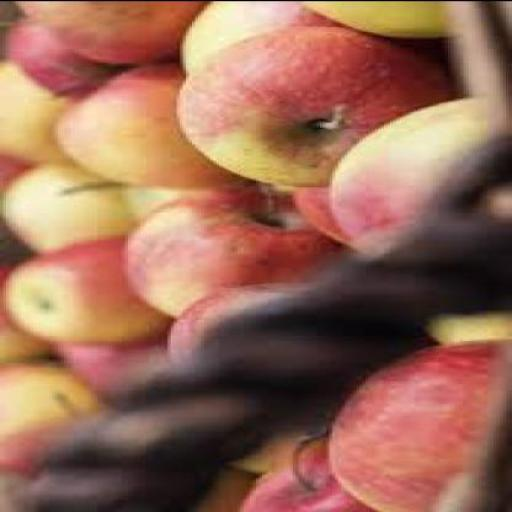biodegradable: (171, 22, 454, 185), (320, 342, 510, 512), (323, 97, 509, 255), (118, 193, 332, 319), (48, 64, 240, 192), (0, 238, 159, 348), (162, 283, 335, 367), (6, 1, 208, 65), (0, 164, 132, 254), (0, 359, 101, 474), (177, 2, 329, 77), (238, 430, 369, 512), (6, 19, 122, 100), (266, 2, 448, 41), (0, 62, 64, 164), (112, 177, 246, 222), (52, 346, 155, 404), (0, 268, 54, 362), (225, 430, 320, 476), (284, 188, 348, 246), (420, 310, 509, 345)
